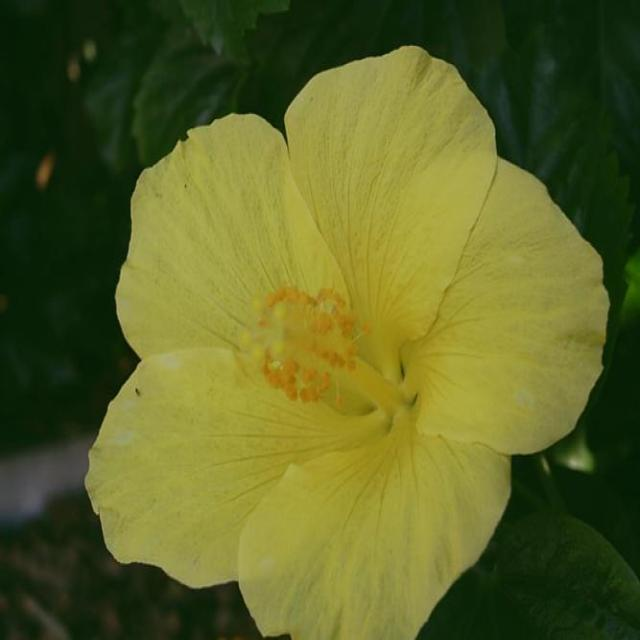hibiscus: (56, 16, 640, 640)
